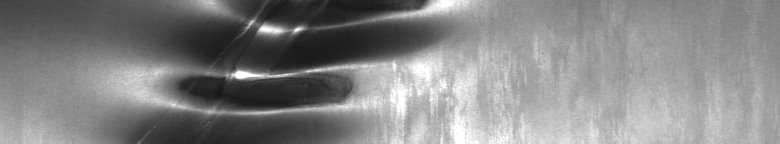ke: (165, 4, 428, 120)
